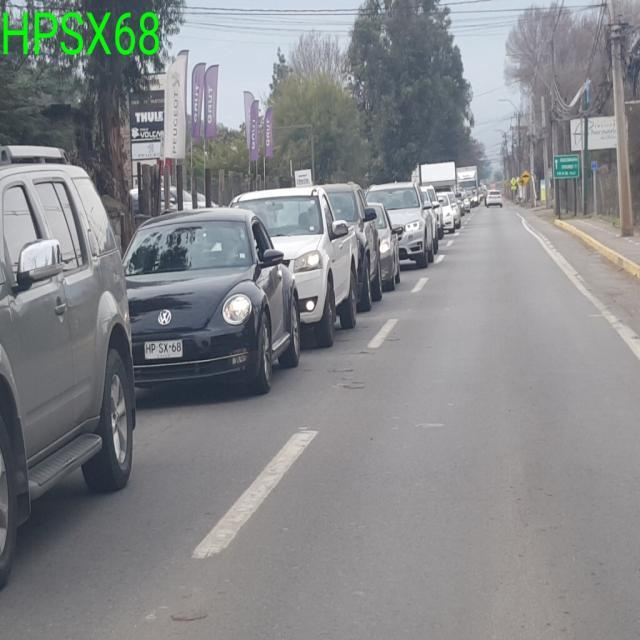Car: (0, 143, 137, 588), (120, 205, 302, 398)
Traffic-sign: (552, 153, 579, 178)
